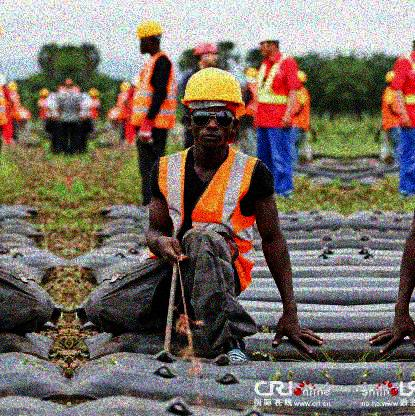helmet: (180, 67, 242, 149), (135, 22, 162, 51), (254, 27, 283, 54), (193, 41, 220, 67)
